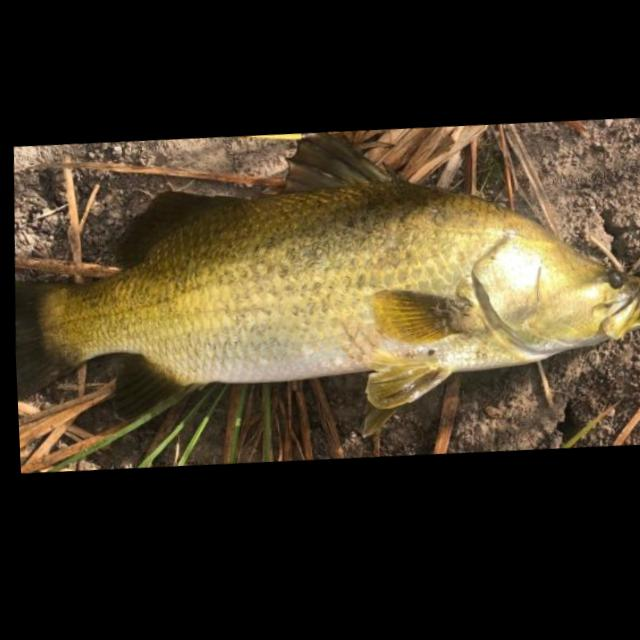Seabass: (6, 94, 640, 447)
